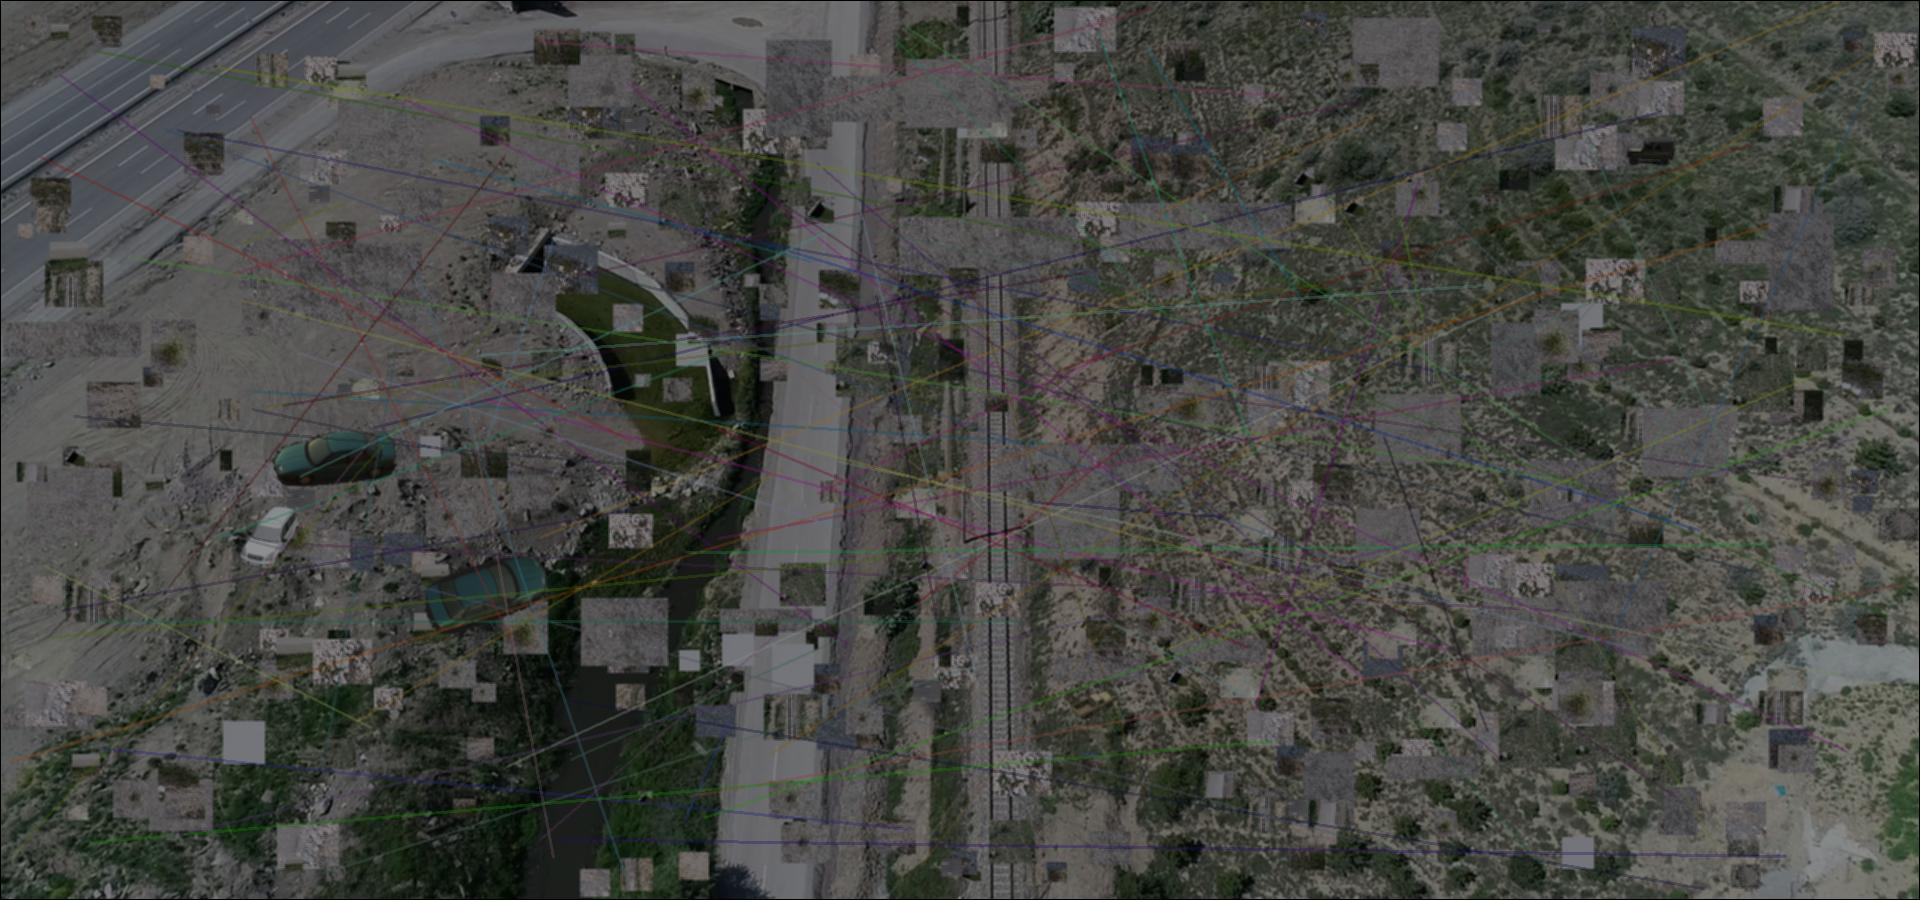arac: (426, 552, 546, 634), (271, 432, 397, 486), (236, 504, 304, 576), (1626, 137, 1675, 167), (1071, 689, 1114, 719)
